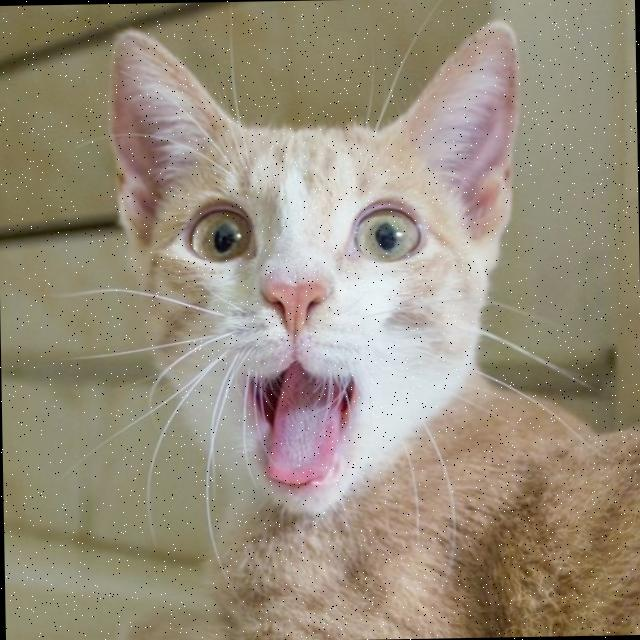Surprised: (142, 180, 442, 515)
